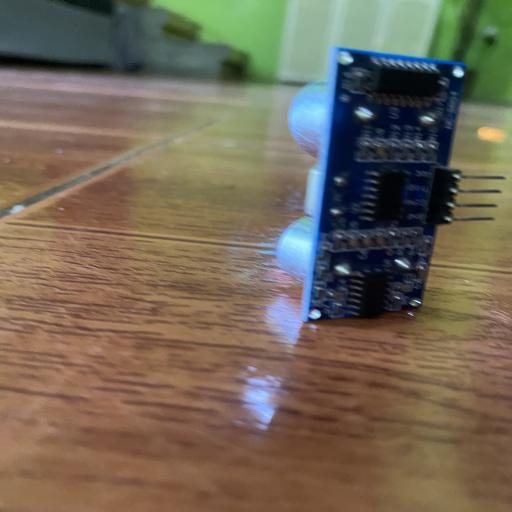Ultrasonic Sensor: (273, 44, 505, 324)
